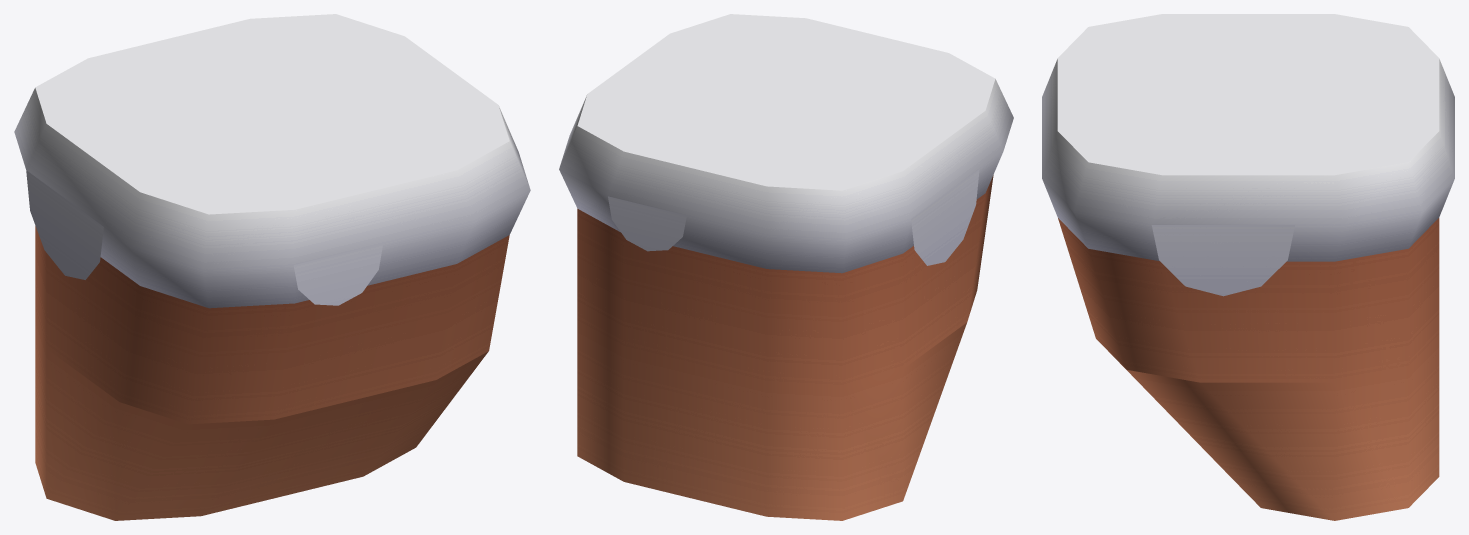
Rendered from block-snow-overhang-edge.glb.
3 views of the same model, side by side, from view 1: azimuth 30°, elevation 25°; view 2: azimuth 150°, elevation 25°; view 3: azimuth 270°, elevation 25° (orthographic). The views are drawn at different scales.
Parts seen in each view (by area): view 1: block-snow-overhang-edge; view 2: block-snow-overhang-edge; view 3: block-snow-overhang-edge.
Boxes of the visible parts, <box> form: block-snow-overhang-edge: <box>14,14,530,520</box>; block-snow-overhang-edge: <box>559,14,1013,520</box>; block-snow-overhang-edge: <box>1042,14,1454,520</box>.
Size of the model in its own units: 1.08 by 1 by 1.08.
Materials: 1 (1 with a texture image).
